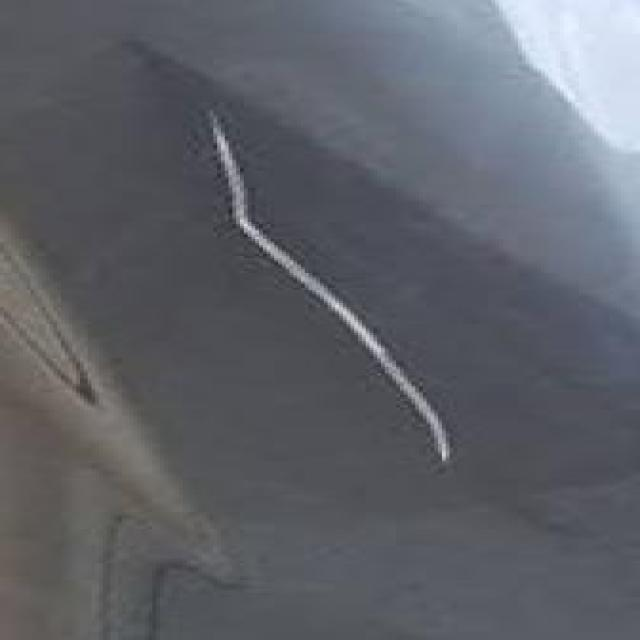scratch: (188, 93, 466, 494)
